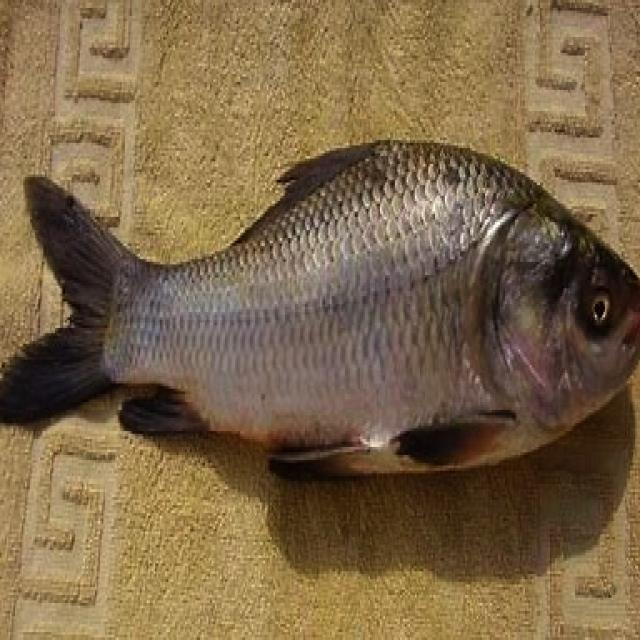Catla: (0, 141, 640, 483)
